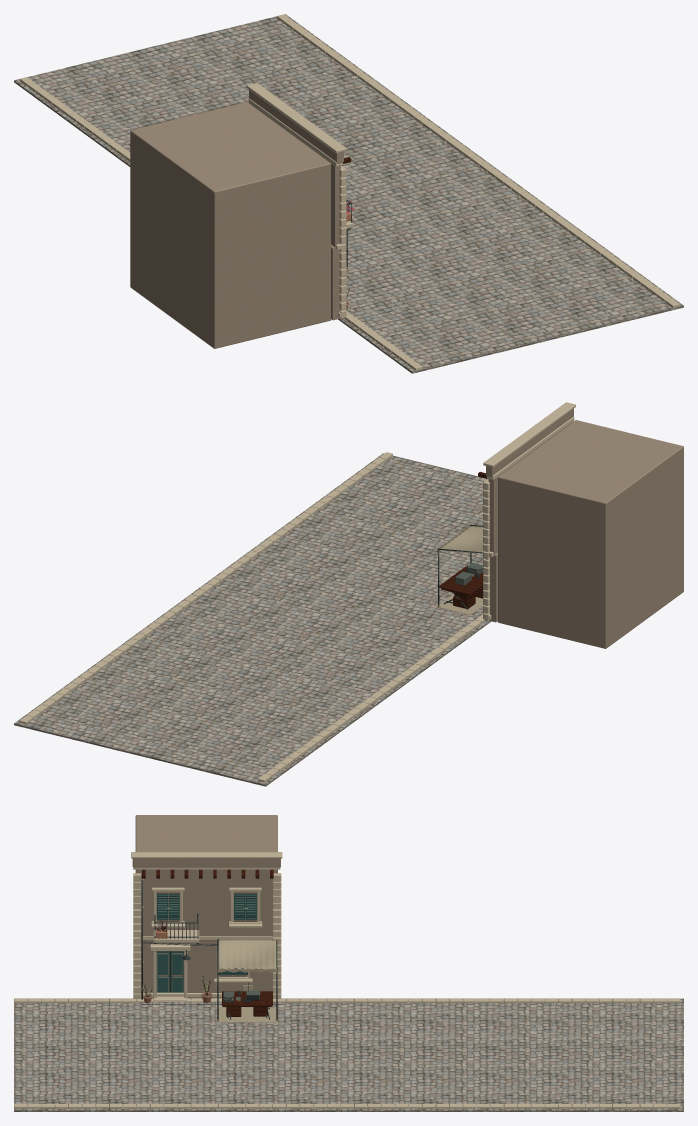
File: MarketSample.fbx
The picture shows the model from 3 angles, top to bottom: view 1: azimuth 30°, elevation 25°; view 2: azimuth 150°, elevation 25°; view 3: azimuth 270°, elevation 25°; orthographic projection. The views are drawn at different scales.
Parts seen in each view (by area): view 1: ground / 02 / worn stone paving, shop / 01 / scanned aged lime plaster, ground / 05 / dressed limestone, shop / 05 / dressed limestone; view 2: ground / 02 / worn stone paving, shop / 01 / scanned aged lime plaster, ground / 05 / dressed limestone, shop / 05 / dressed limestone, stall / 04 / woven canopy, stall / 03 / timber grain; view 3: ground / 02 / worn stone paving, shop / 01 / scanned aged lime plaster, shop / 05 / dressed limestone, ground / 05 / dressed limestone, stall / 04 / woven canopy, shop / 06 / oxidised teal paint, shop / 08 / dark iron, stall / 03 / timber grain, shop / 07 / exposed wood edges.
Part boxes in pixels (x1,y1,x2,y2): ground / 02 / worn stone paving: (14, 14, 683, 373); shop / 01 / scanned aged lime plaster: (130, 90, 343, 348); ground / 05 / dressed limestone: (20, 14, 679, 370); shop / 05 / dressed limestone: (246, 83, 352, 318); ground / 02 / worn stone paving: (14, 453, 491, 786); shop / 01 / scanned aged lime plaster: (486, 408, 683, 648); ground / 05 / dressed limestone: (19, 452, 484, 782); shop / 05 / dressed limestone: (483, 402, 575, 621); stall / 04 / woven canopy: (436, 526, 483, 615); stall / 03 / timber grain: (439, 566, 483, 608); ground / 02 / worn stone paving: (14, 998, 683, 1111); shop / 01 / scanned aged lime plaster: (132, 815, 280, 998); shop / 05 / dressed limestone: (131, 852, 282, 1001); ground / 05 / dressed limestone: (14, 998, 680, 1108); stall / 04 / woven canopy: (218, 939, 276, 1022); shop / 06 / oxidised teal paint: (156, 893, 256, 992); shop / 08 / dark iron: (141, 873, 255, 999); stall / 03 / timber grain: (222, 991, 272, 1016); shop / 07 / exposed wood edges: (156, 891, 256, 992).
Size of what is drawn, in the model's own units: 1900 by 793 by 3300.
Materials: 18 (3 with a texture image).
